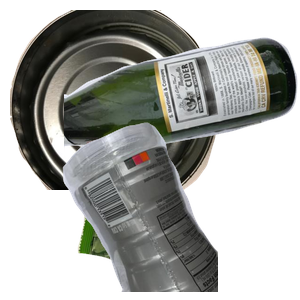glass: (64, 35, 300, 181)
metal: (10, 10, 221, 190)
plastic: (60, 120, 300, 300)
trash: (75, 156, 244, 300)
